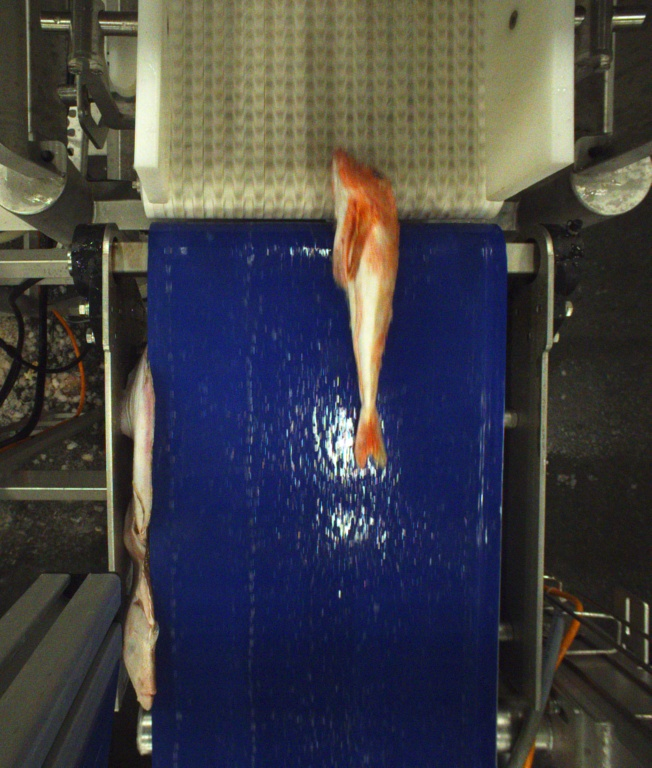GUU: (327, 152, 398, 467)
